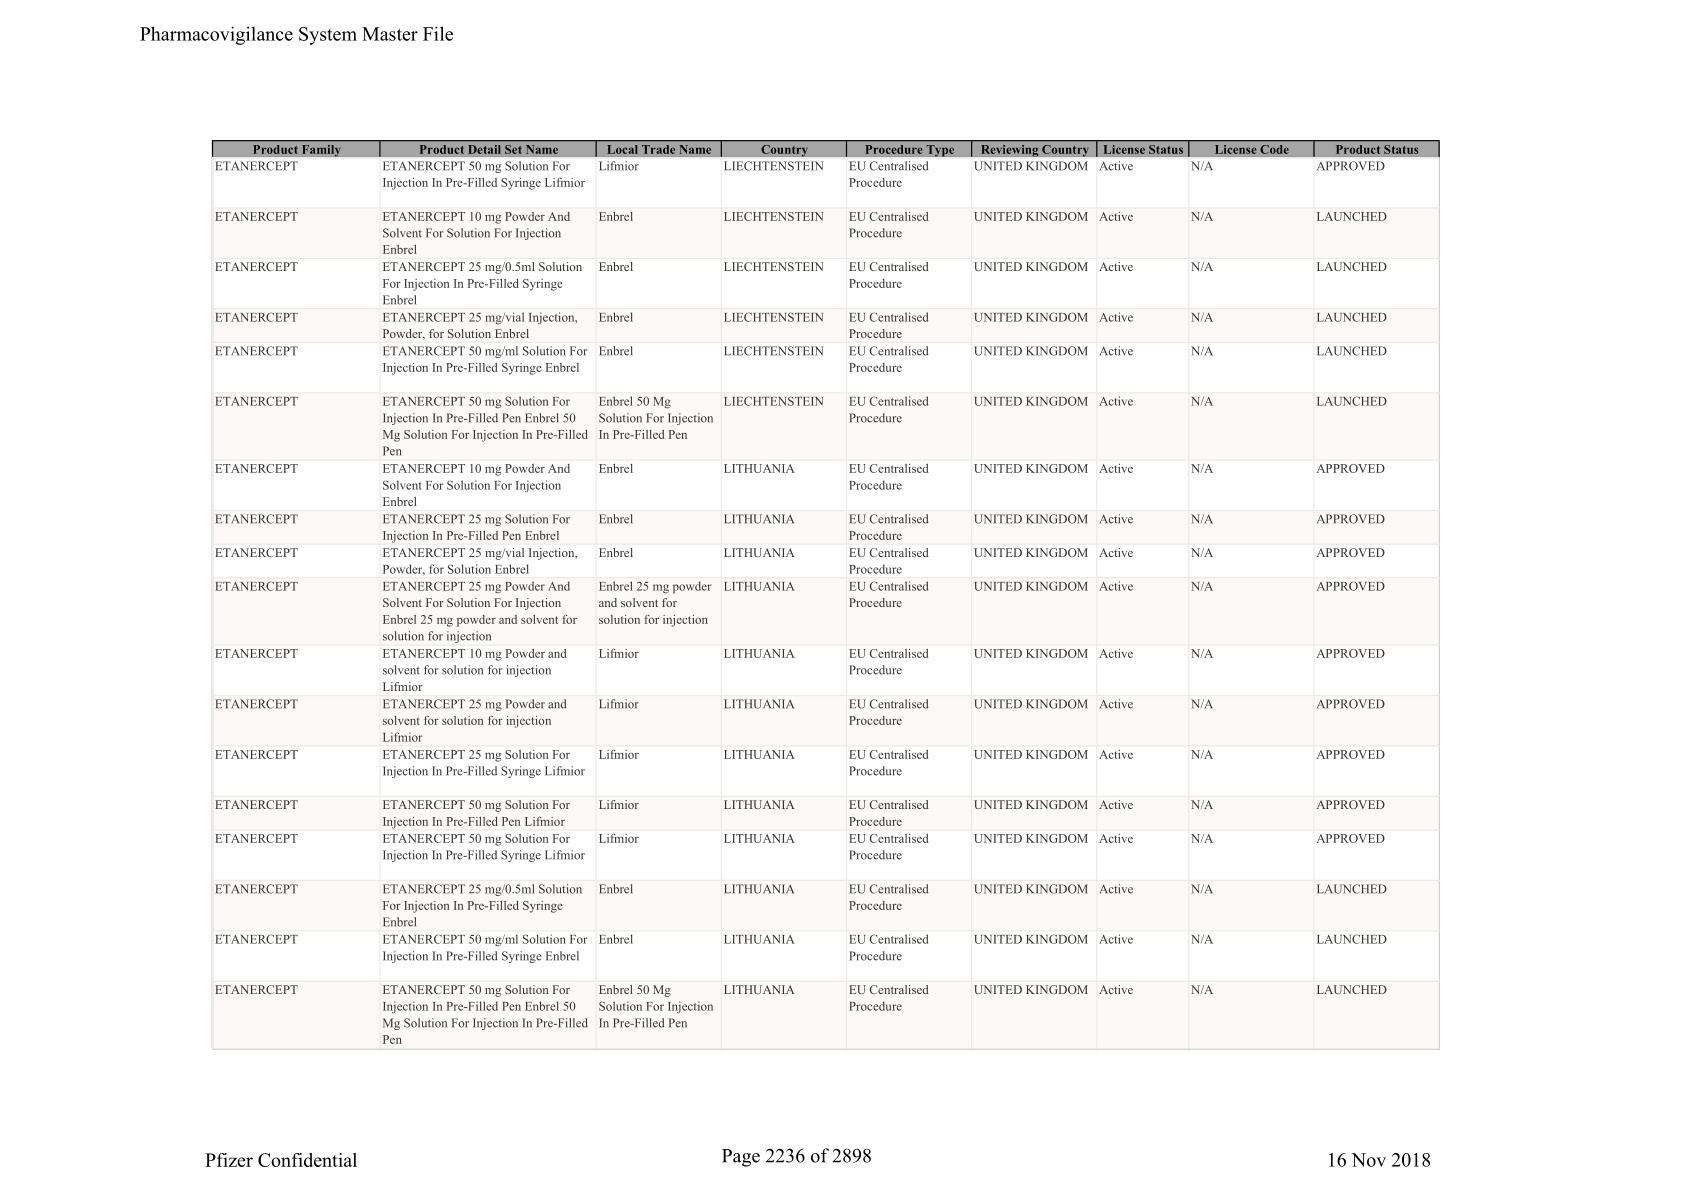full_lined: (209, 138, 1443, 1052)
